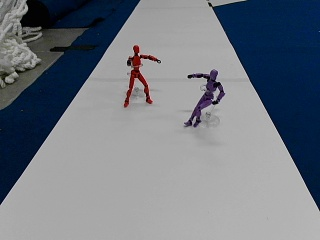pedestrian: (185, 69, 224, 127), (124, 45, 161, 106)
